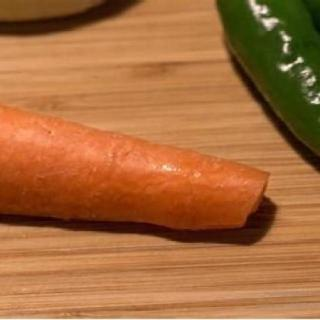carrot: (1, 96, 293, 246)
